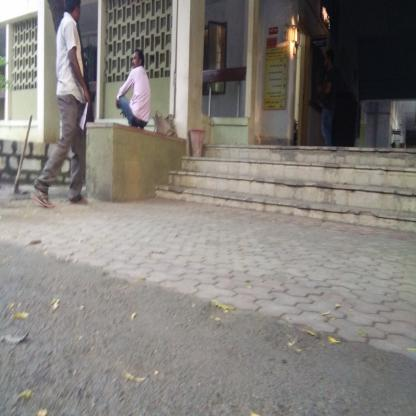stairs: (206, 143, 414, 229)
